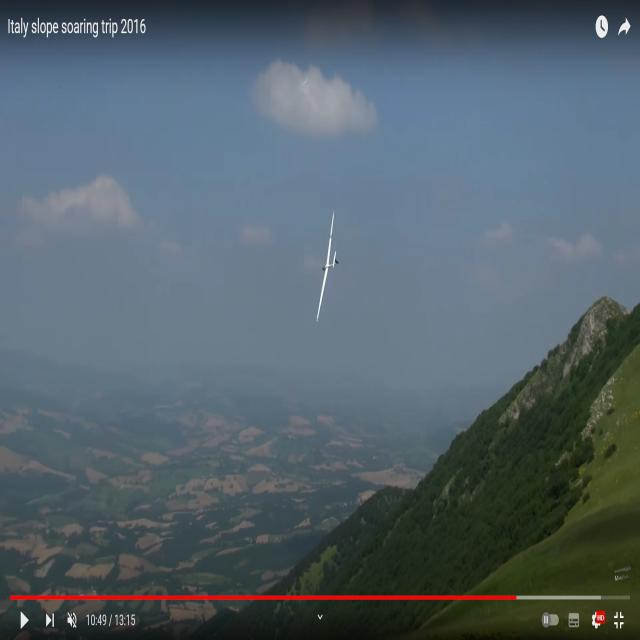iha: (309, 234, 335, 289)
